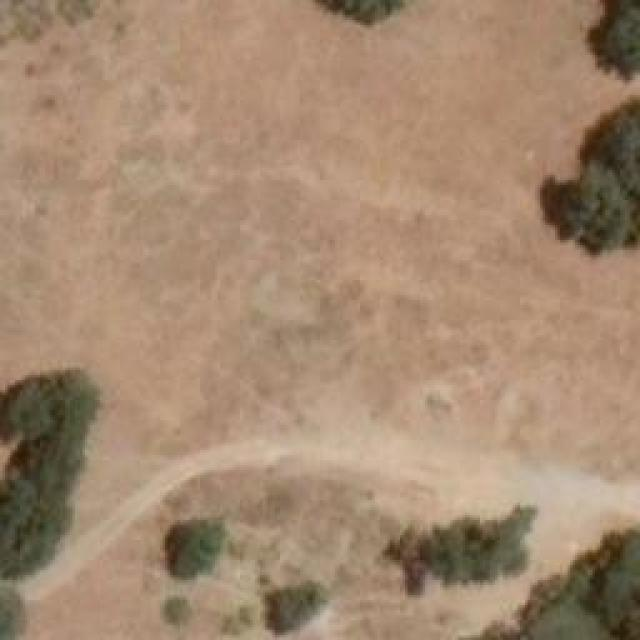Tree: (540, 105, 638, 258), (512, 527, 639, 640), (382, 505, 530, 600), (0, 475, 55, 575), (162, 520, 220, 588), (588, 0, 638, 78), (0, 375, 55, 443), (260, 585, 323, 638), (308, 0, 411, 27), (158, 595, 193, 630)
